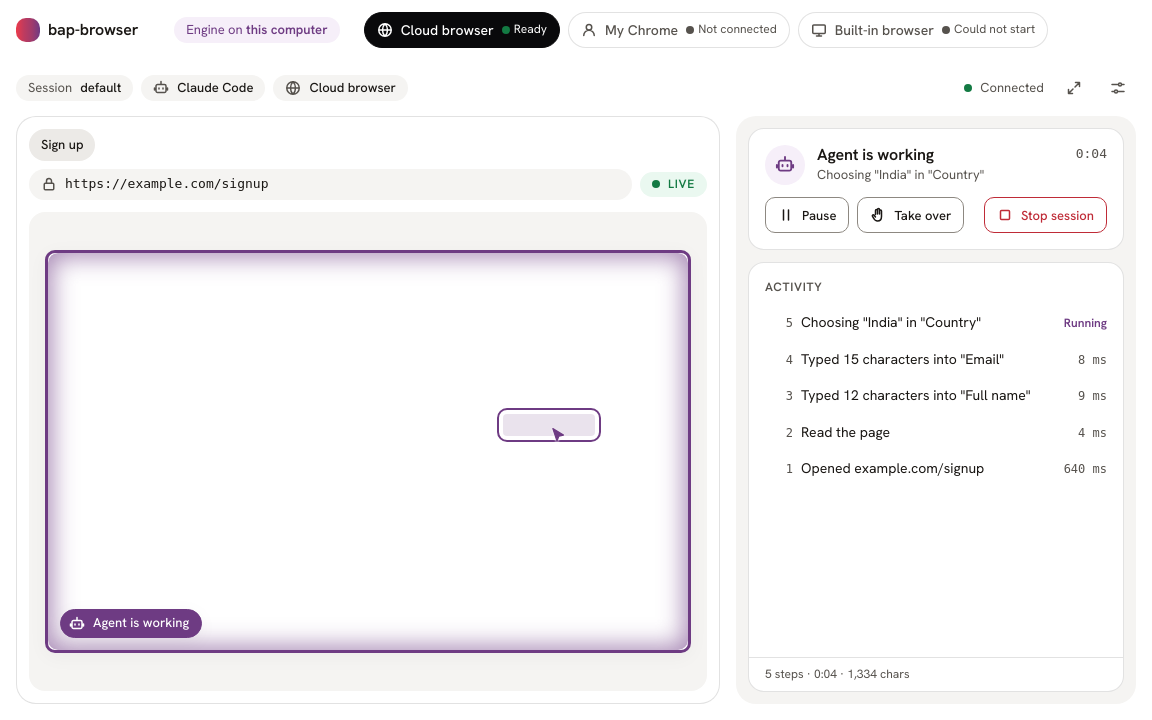
Scenario: the window of three pages (spec 9.16) › says why a browser could not be started
Click the tab "Built-in browser Could not start": x=923, y=30 [798,12,1048,48]
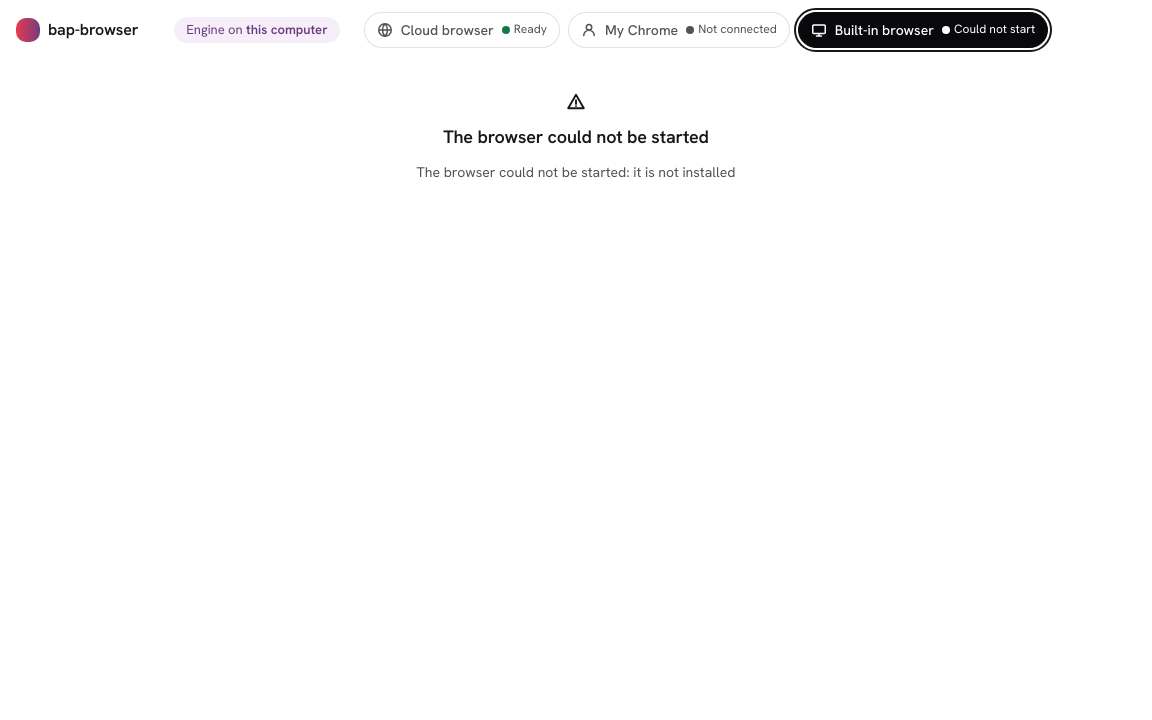
Expected: the heading "The browser could not be started" is shown, [443,124,709,150]
Expected: the text "The browser could not be started: it is not installed" is shown, [417,162,736,182]
